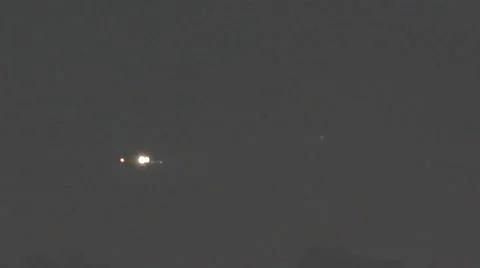Plane: (98, 145, 182, 174)
